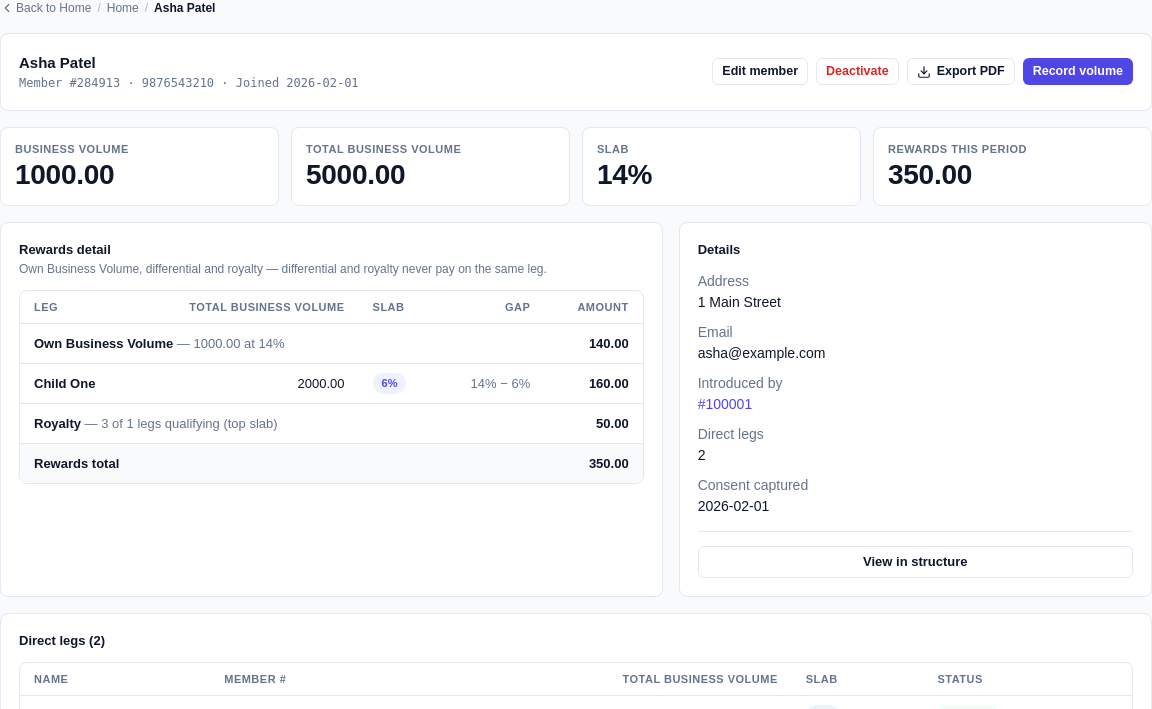
Test: MemberDetail — edit › opens the edit modal prefilled with the member
Step 1. Click the button "Edit member" → point(760, 72), box x1=712 y1=58 x2=808 y2=85
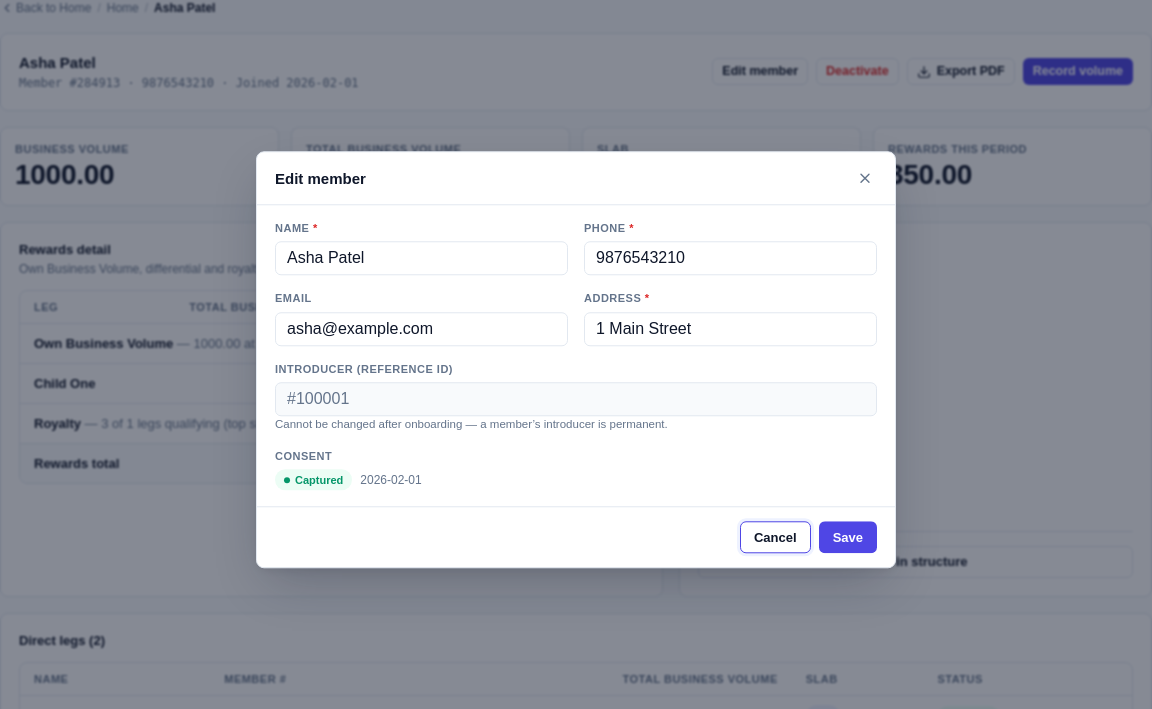
Check: the heading "Edit member" is shown, box x1=275 y1=168 x2=366 y2=189
Check: the field labelled "Name *" holds "Asha Patel", box x1=275 y1=242 x2=568 y2=276
